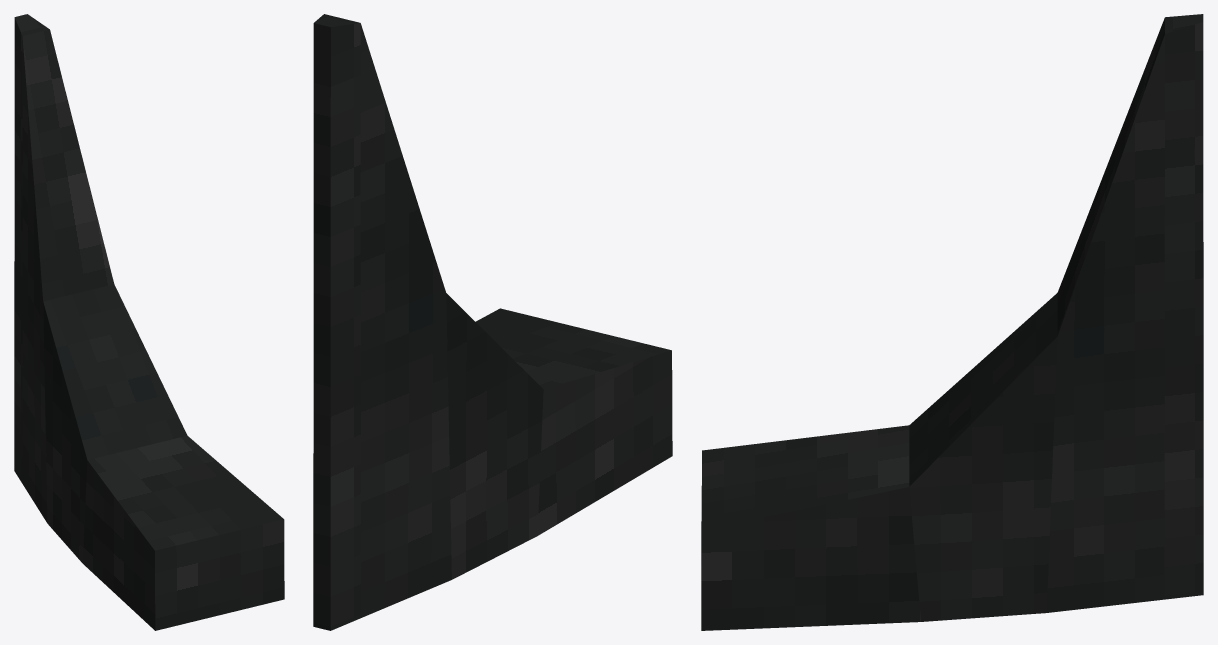
The model's file is spike_corbel_top.obj.
The picture shows the model from 3 angles, left to right: view 1: azimuth 30°, elevation 25°; view 2: azimuth 150°, elevation 25°; view 3: azimuth 270°, elevation 25°; orthographic projection. The views are drawn at different scales.
Visible parts, largest first — view 1: cuboid_selection_selection; view 2: cuboid_selection_selection; view 3: cuboid_selection_selection.
Part boxes in pixels (x1,y1,x2,y2): cuboid_selection_selection: (14, 14, 284, 630); cuboid_selection_selection: (313, 14, 672, 630); cuboid_selection_selection: (701, 14, 1203, 630).
Bounding box in the file's own units: 0.375 × 1.26 × 1.
